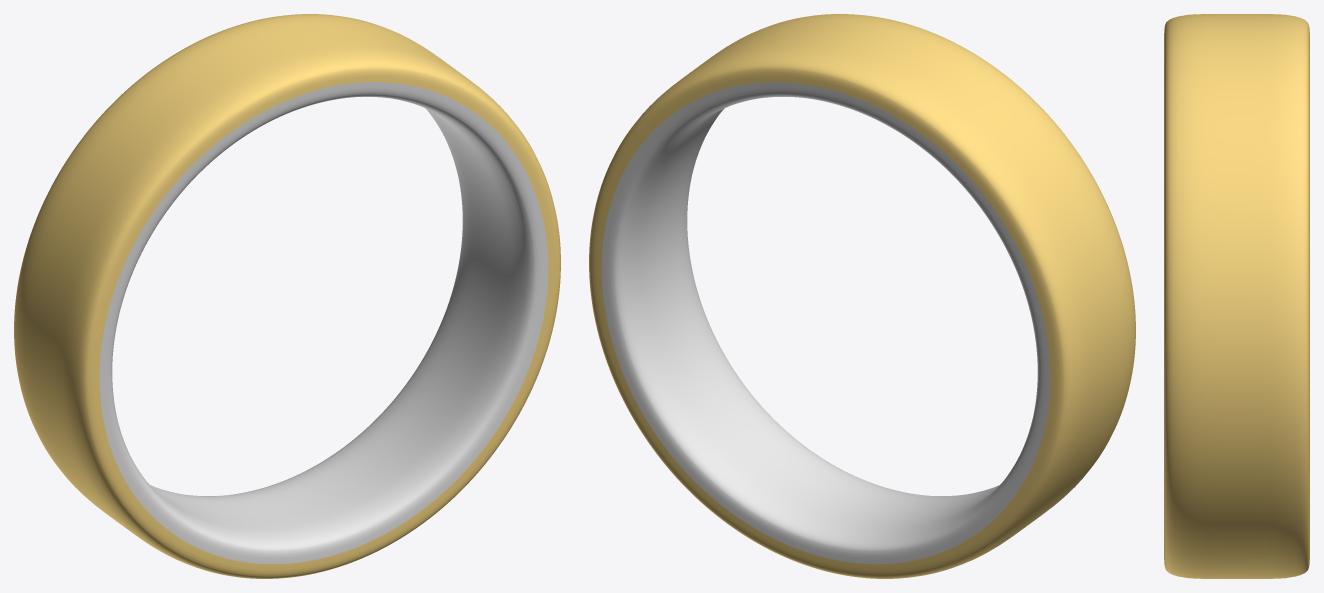
The model's file is Ben Zole.glb.
3 views of the same model, side by side, from view 1: azimuth 30°, elevation 25°; view 2: azimuth 150°, elevation 25°; view 3: azimuth 270°, elevation 25° (orthographic).
Parts seen in each view (by area): view 1: ben ring YG outside for 3d model, ben ring PT inside for 3d model; view 2: ben ring YG outside for 3d model, ben ring PT inside for 3d model; view 3: ben ring YG outside for 3d model.
Boxes of the visible parts, x1,y1,x2,y2 form: ben ring YG outside for 3d model: [14, 14, 560, 578]; ben ring PT inside for 3d model: [99, 82, 548, 564]; ben ring YG outside for 3d model: [589, 14, 1135, 578]; ben ring PT inside for 3d model: [601, 82, 1050, 564]; ben ring YG outside for 3d model: [1164, 14, 1309, 578].
Bounding box in the file's own units: 22.53 × 22.53 × 5.82.
